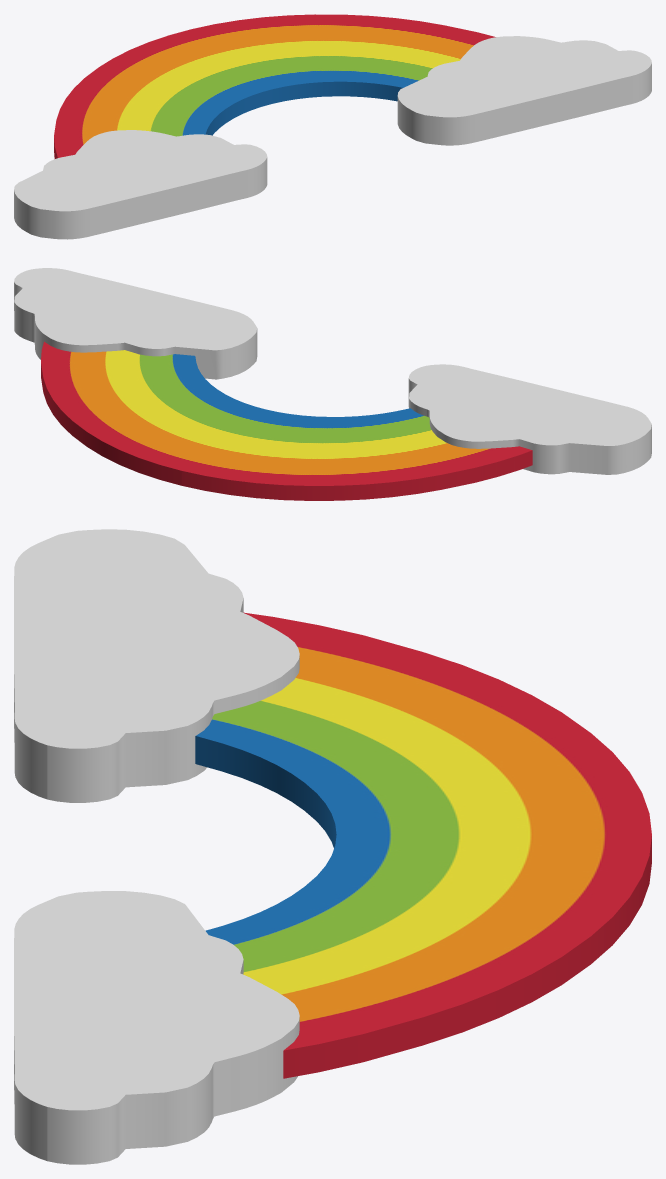
File: Rainbow With Clouds.glb
3 renders of one model, top to bottom at view 1: azimuth 30°, elevation 25°; view 2: azimuth 150°, elevation 25°; view 3: azimuth 270°, elevation 25°, orthographic. The views are drawn at different scales.
Parts seen in each view (by area): view 1: pDisc4; view 2: pDisc4; view 3: pDisc4.
Boxes of the visible parts, x1,y1,x2,y2 form: pDisc4: (14,14,651,239); pDisc4: (14,268,651,500); pDisc4: (14,529,651,1164).
Bounding box in the file's own units: 0.087 × 0.0038 × 0.0404.
Materials: 2 (1 with a texture image).
